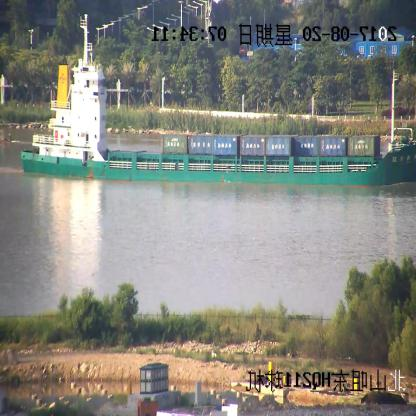Bulk Carrier: (21, 46, 415, 188)
